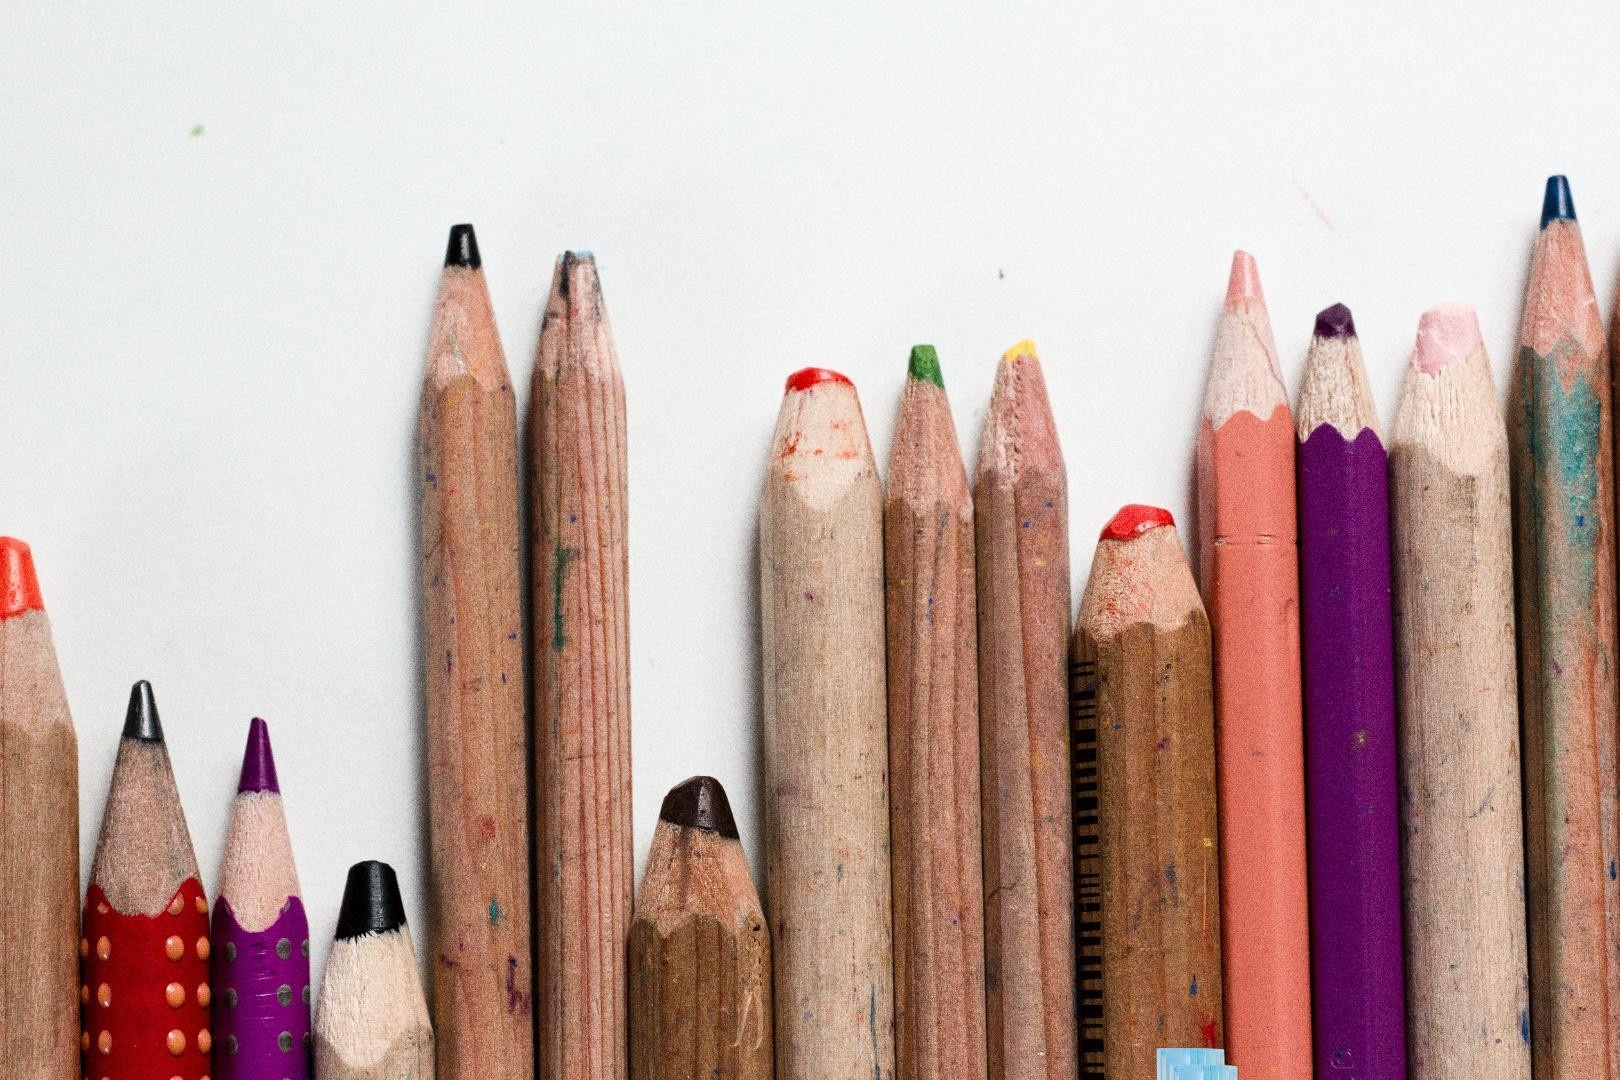trash: (1039, 1045, 1244, 1080)
